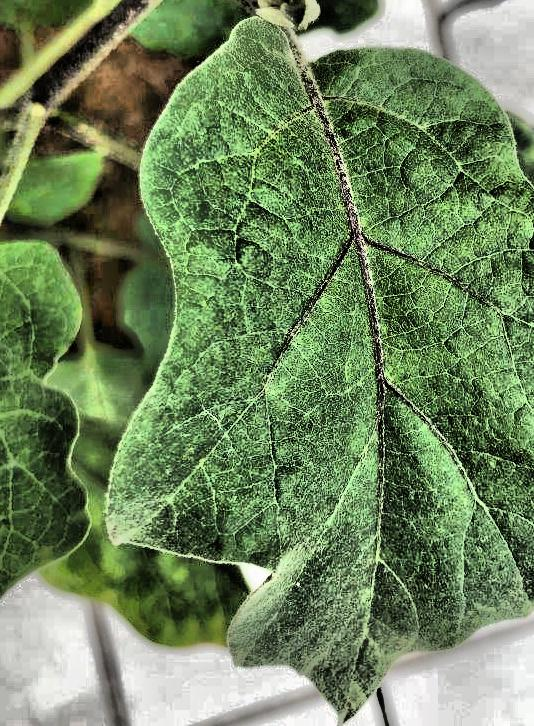HEALTHY: (20, 0, 534, 490)
